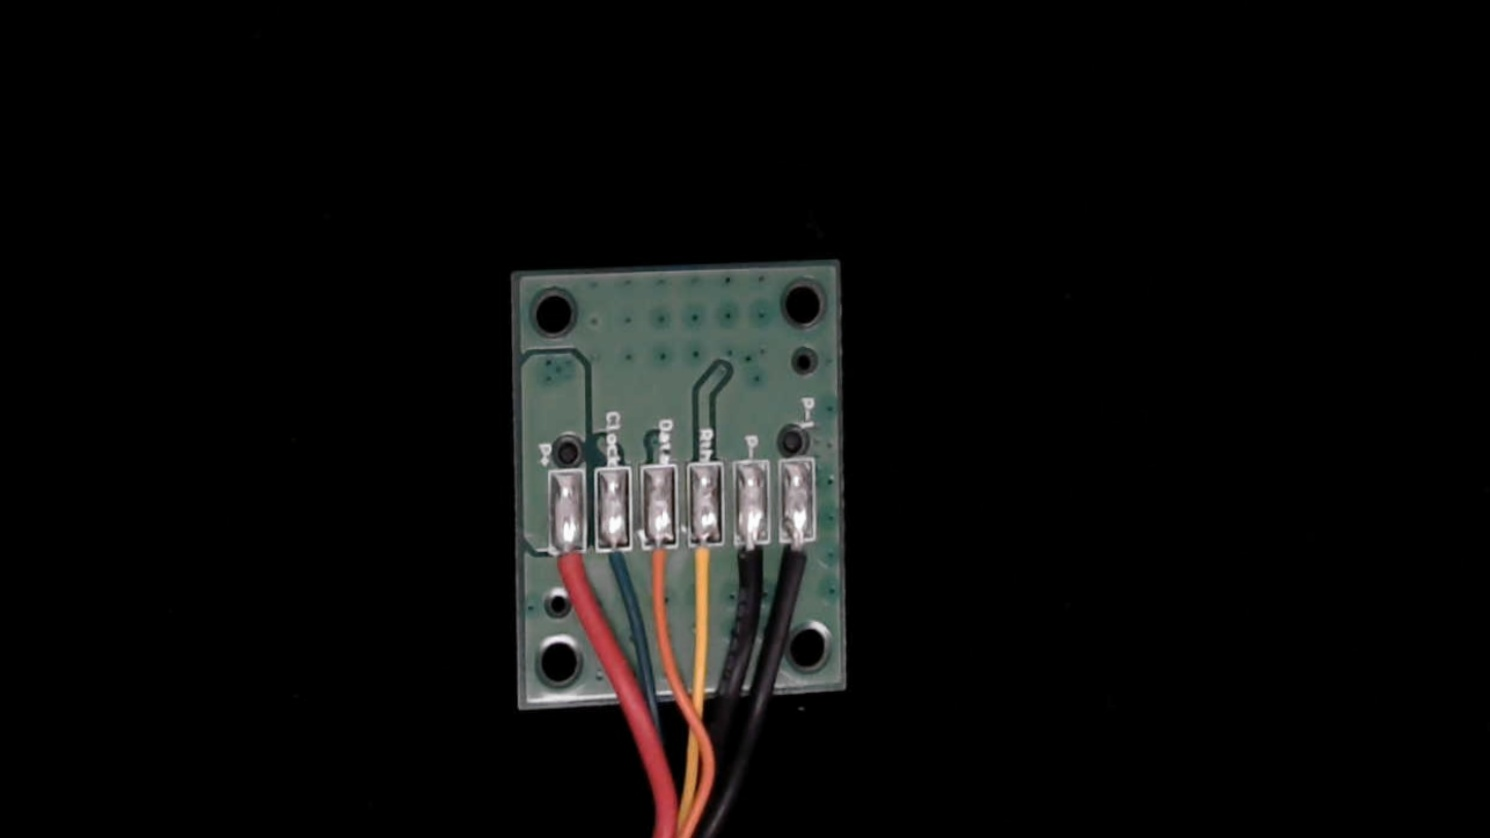Black: (732, 519, 773, 616)
Black1: (780, 518, 820, 608)
Green: (596, 522, 629, 601)
Orange: (641, 527, 678, 620)
Red: (549, 527, 589, 621)
Yellow: (686, 523, 727, 621)
